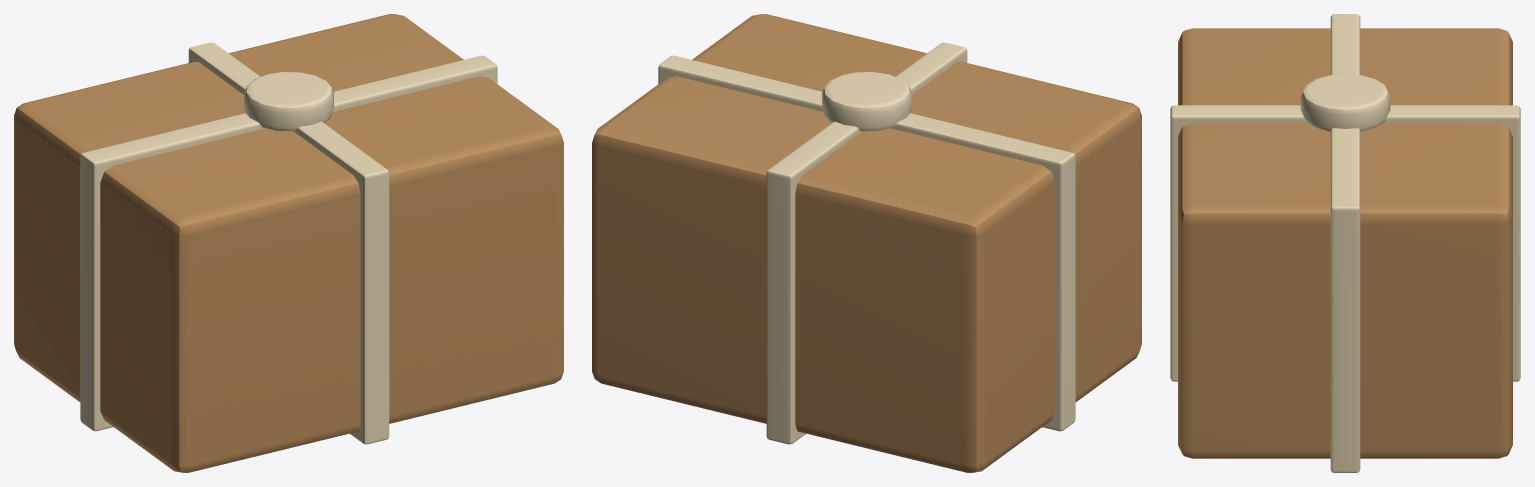
The model's file is Parcel.glb.
3 views of the same model, side by side, from view 1: azimuth 30°, elevation 25°; view 2: azimuth 150°, elevation 25°; view 3: azimuth 270°, elevation 25° (orthographic).
Parts seen in each view (by area): view 1: Parcel; view 2: Parcel; view 3: Parcel.
Boxes of the visible parts, x1,y1,x2,y2 form: Parcel: [14, 14, 563, 472]; Parcel: [592, 14, 1141, 472]; Parcel: [1170, 14, 1520, 472].
Bounding box in the file's own units: 0.124 × 0.085 × 0.094.
